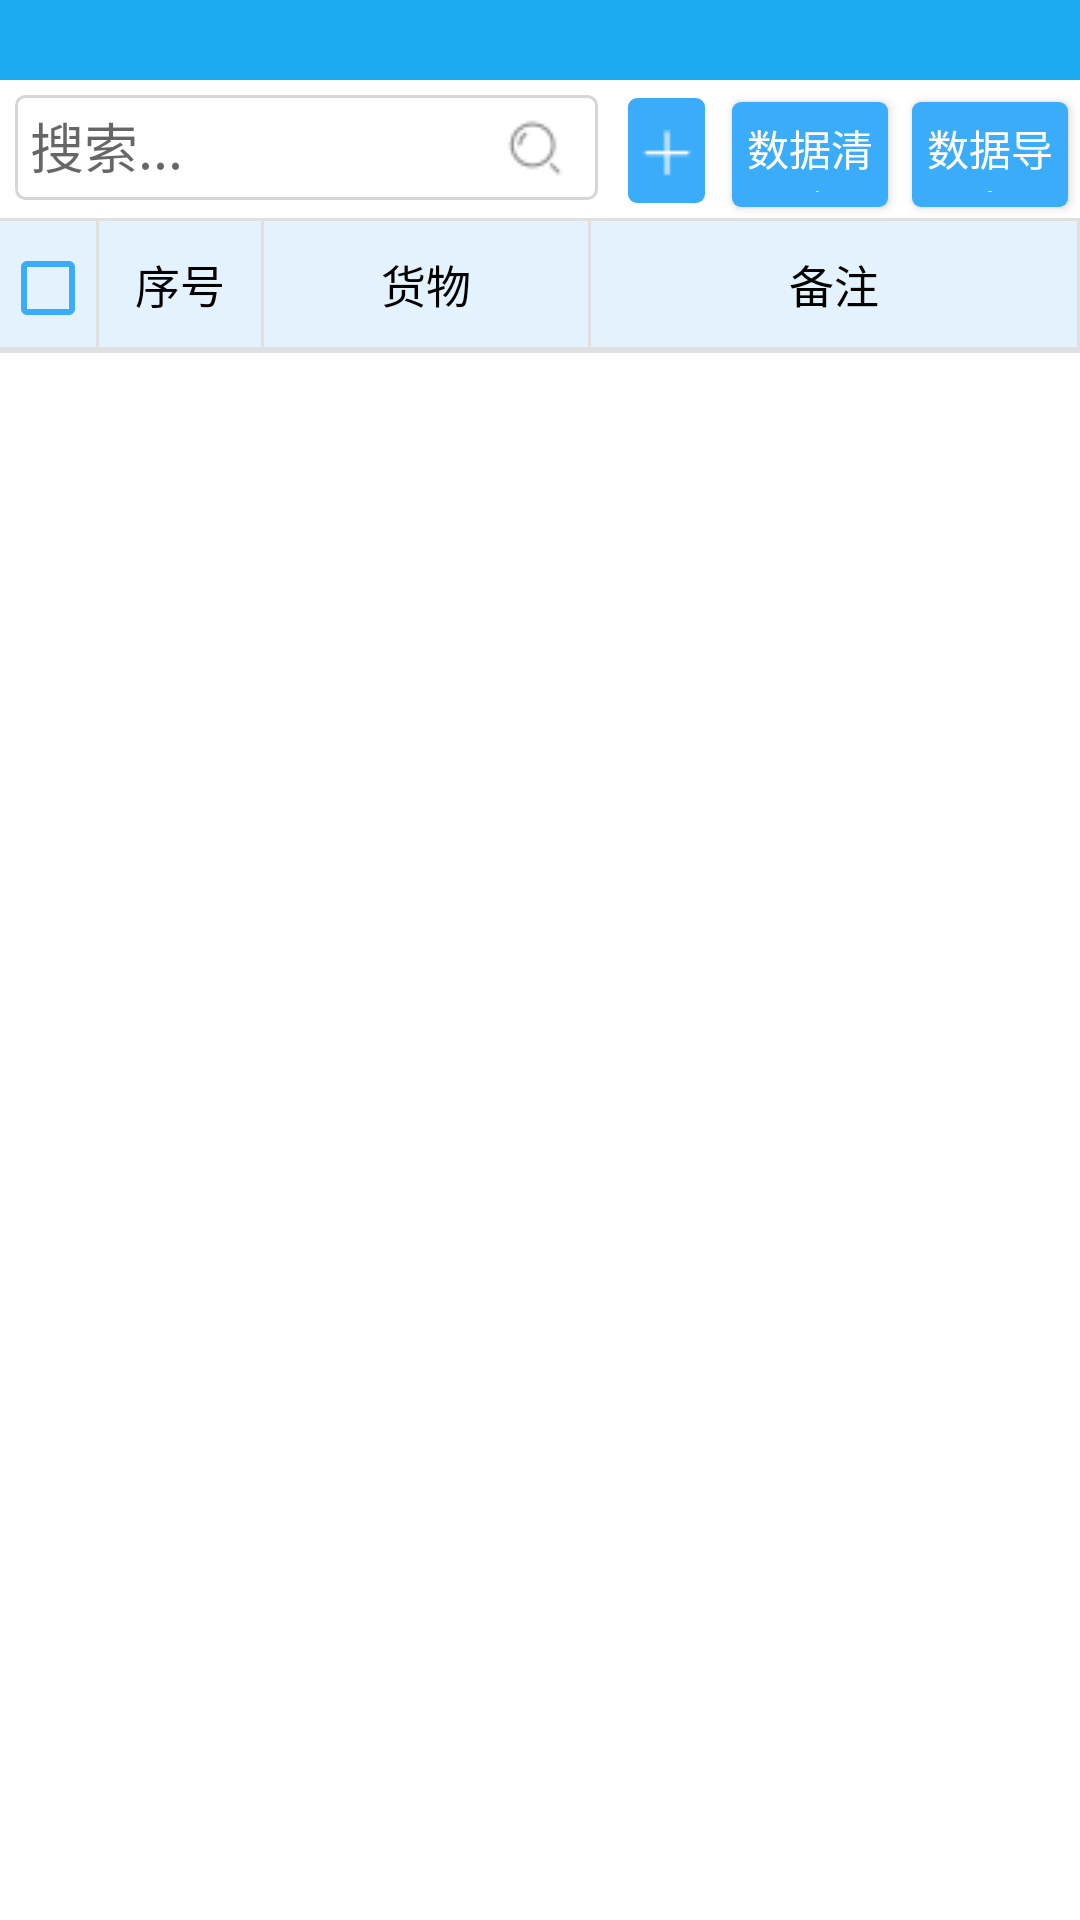

Icons on this 1080px×1920px Android screen, each with the point to tap as [x,y]:
add: [666,150]
